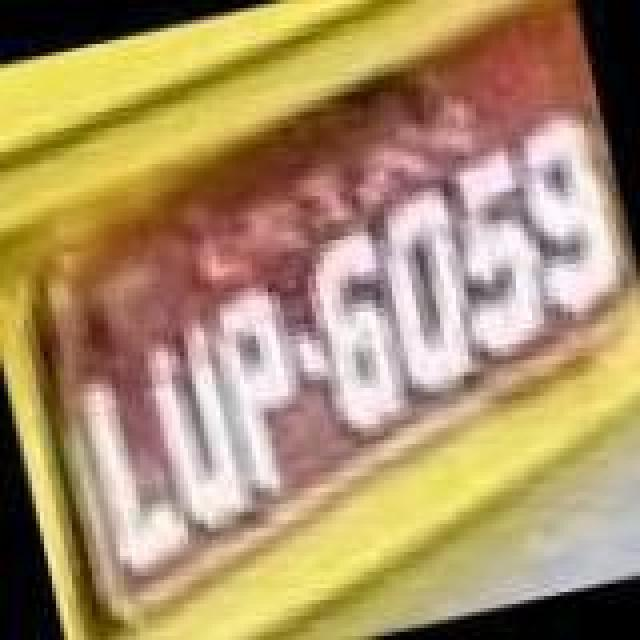5: (426, 148, 562, 372)
6: (292, 226, 420, 446)
9: (510, 104, 638, 320)
L: (72, 366, 196, 586)
O: (364, 180, 492, 408)
P: (204, 278, 328, 506)
U: (134, 314, 254, 538)
